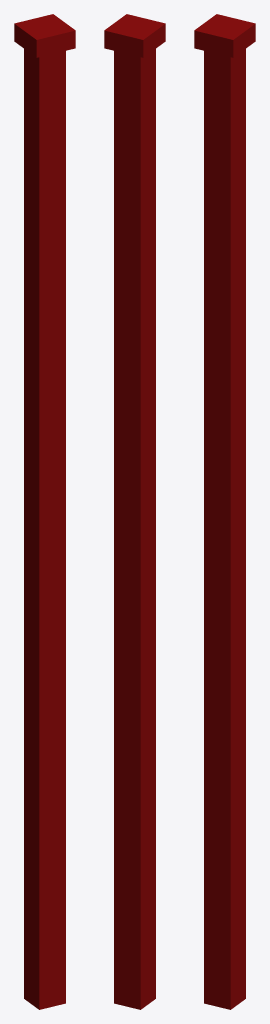
Rendered from boat_lift_mast.dae.
3 renders of one model, left to right at view 1: azimuth 30°, elevation 25°; view 2: azimuth 150°, elevation 25°; view 3: azimuth 330°, elevation 25°, orthographic.
Visible parts, largest first — view 1: VERTICAL_MAST, MAST_CAP; view 2: VERTICAL_MAST, MAST_CAP; view 3: VERTICAL_MAST, MAST_CAP.
Boxes of the visible parts, left/top/right/bottom form: VERTICAL_MAST: left=24, top=49, right=65, bottom=1009; MAST_CAP: left=14, top=14, right=75, bottom=57; VERTICAL_MAST: left=114, top=49, right=155, bottom=1009; MAST_CAP: left=104, top=14, right=165, bottom=57; VERTICAL_MAST: left=204, top=49, right=245, bottom=1009; MAST_CAP: left=194, top=14, right=255, bottom=57.
Bounding box in the file's own units: 0.8 × 0.8 × 19.07.
